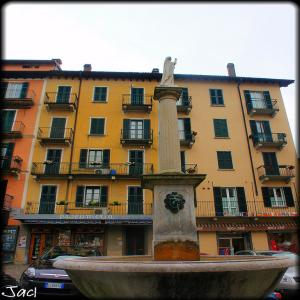Vehicle-registration-plate: (46, 283, 65, 289)
